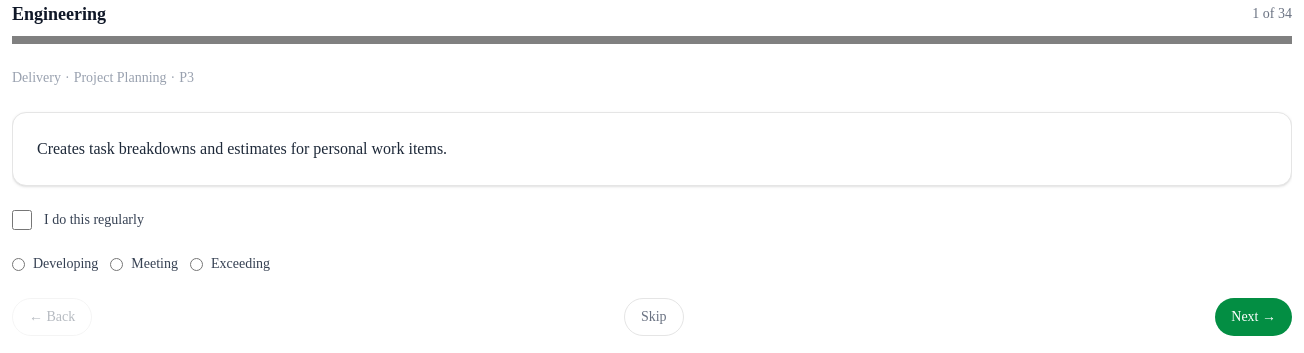
it: B-3: Next advances; Back no-ops at 0; Skip advances without checkbox change › Skip advances without toggling checkbox
This screenshot has width=1304, height=353.
Check: the checkbox is not checked, box [12, 210, 32, 230]
What coordinates should you click on to do the following:
click the button "Skip"
I would click on:
 (654, 317)
Its box is [624, 298, 684, 336].
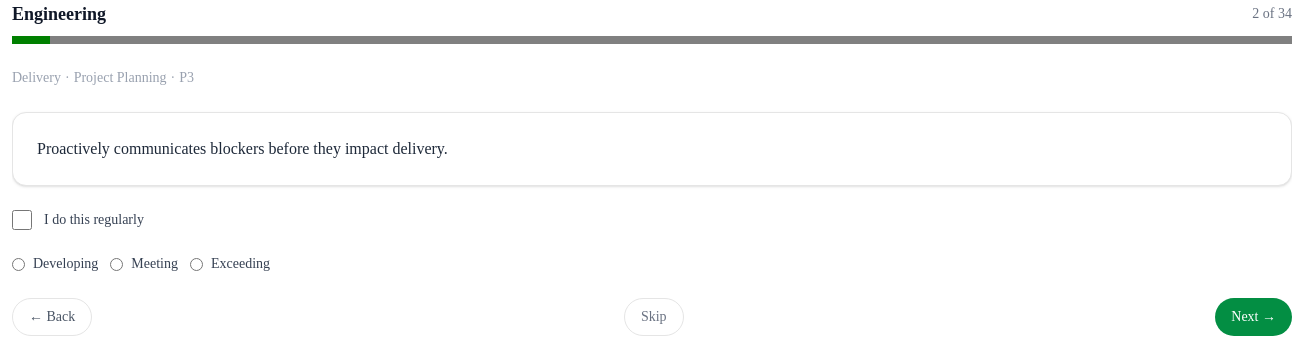
Check: the text "2 of 34" is shown, box [1252, 4, 1292, 24]
